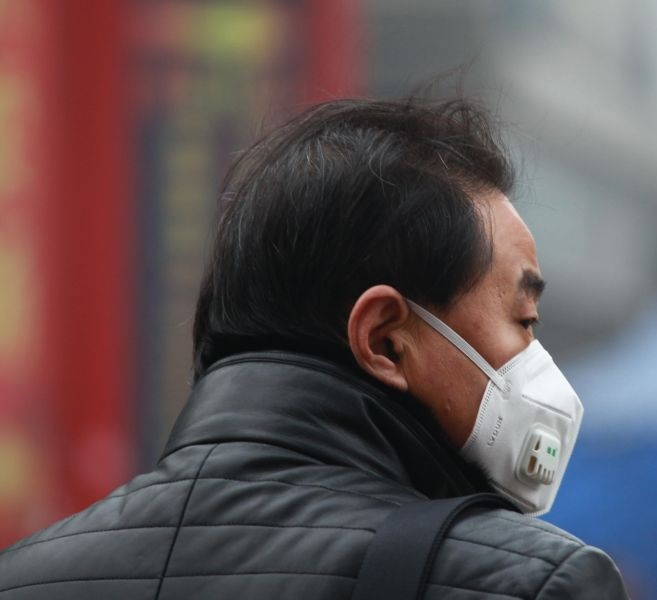face_mask: (390, 183, 580, 493)
